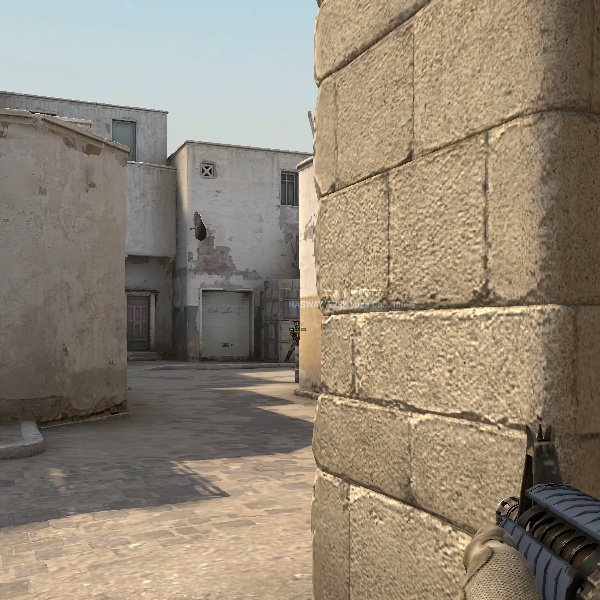t_body: (287, 319, 302, 371)
t_head: (293, 320, 300, 331)
